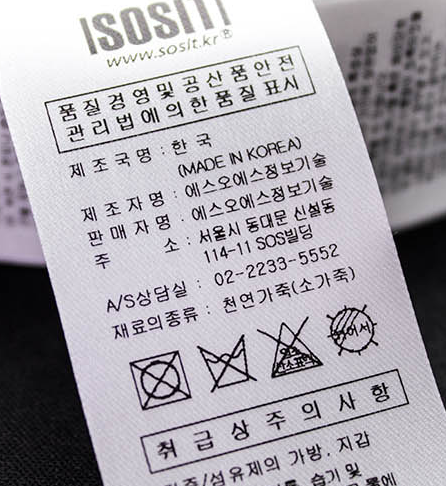KR_flat_dry_in_shade: (324, 303, 381, 357)
KR_no_bleach: (260, 321, 325, 380)
KR_no_tumble_dry: (124, 348, 192, 414)
KR_no_wash: (196, 332, 256, 393)
